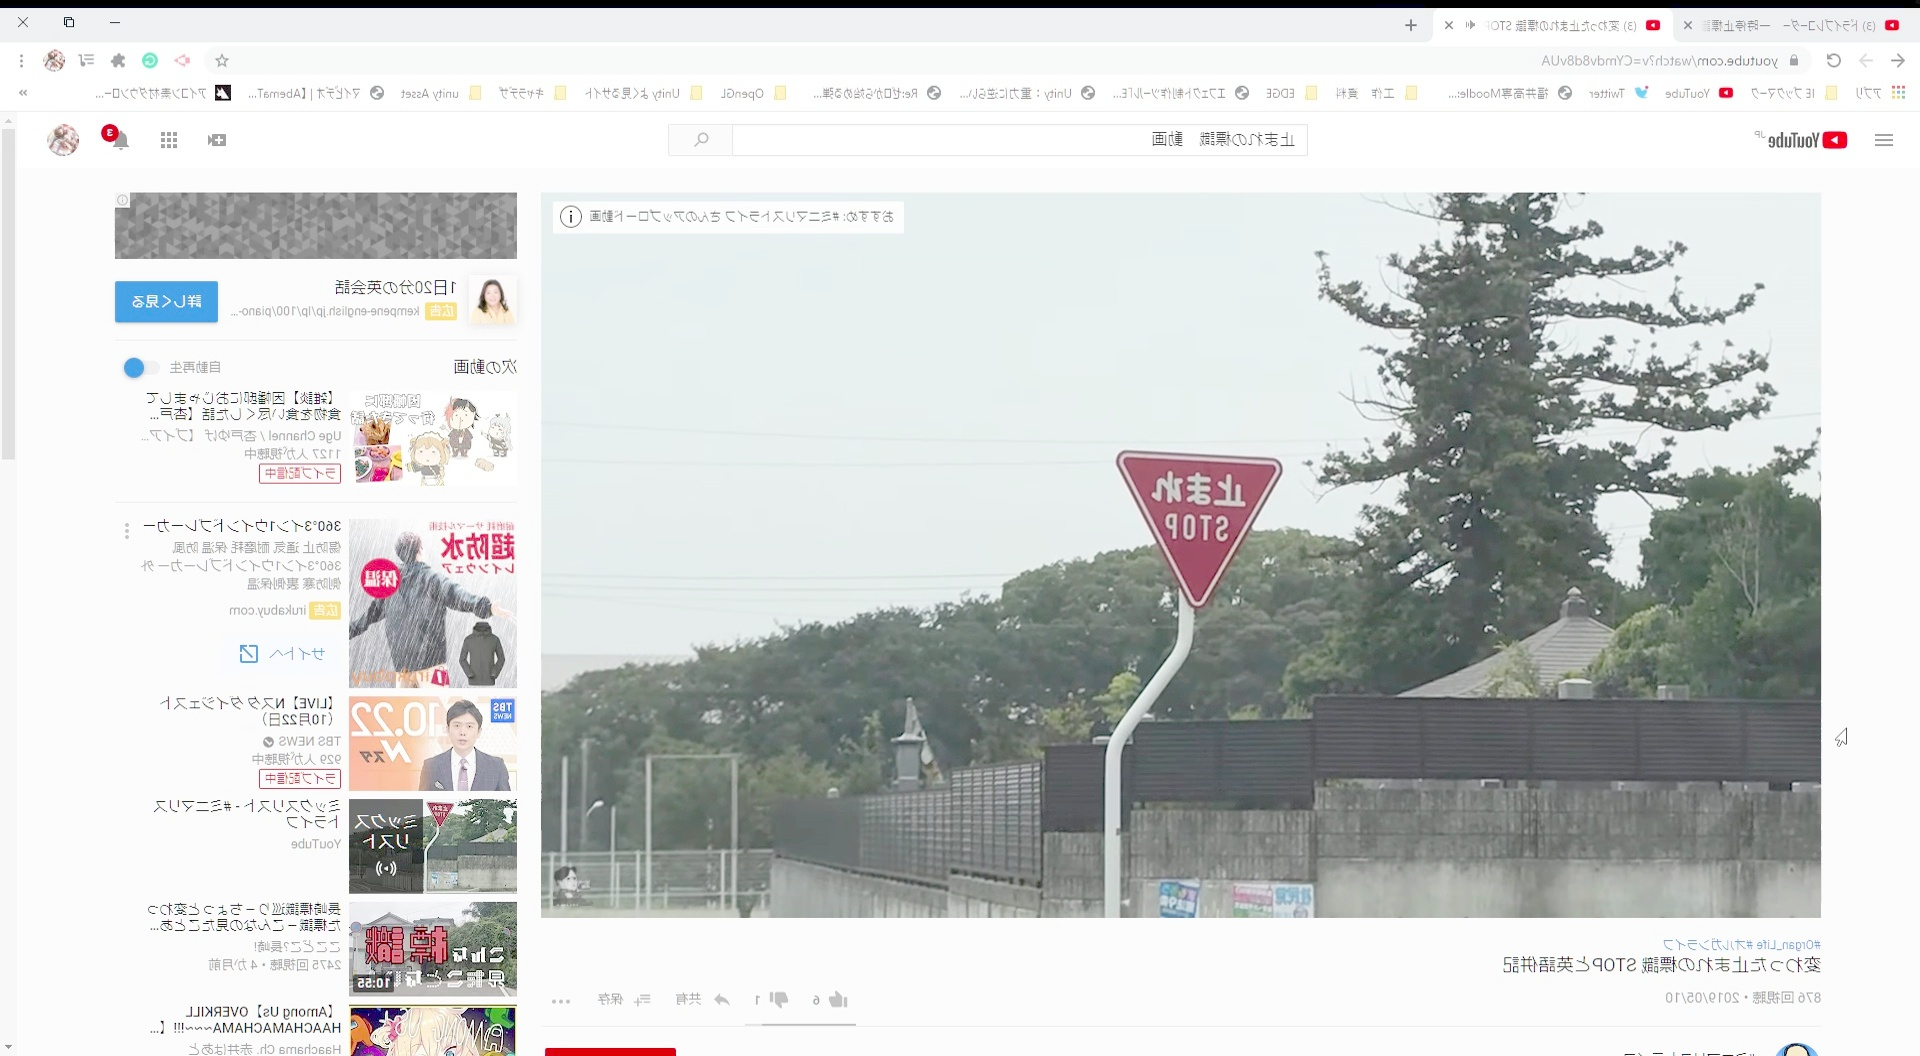Regulatory_sign_triangle: (1108, 443, 1318, 618)
